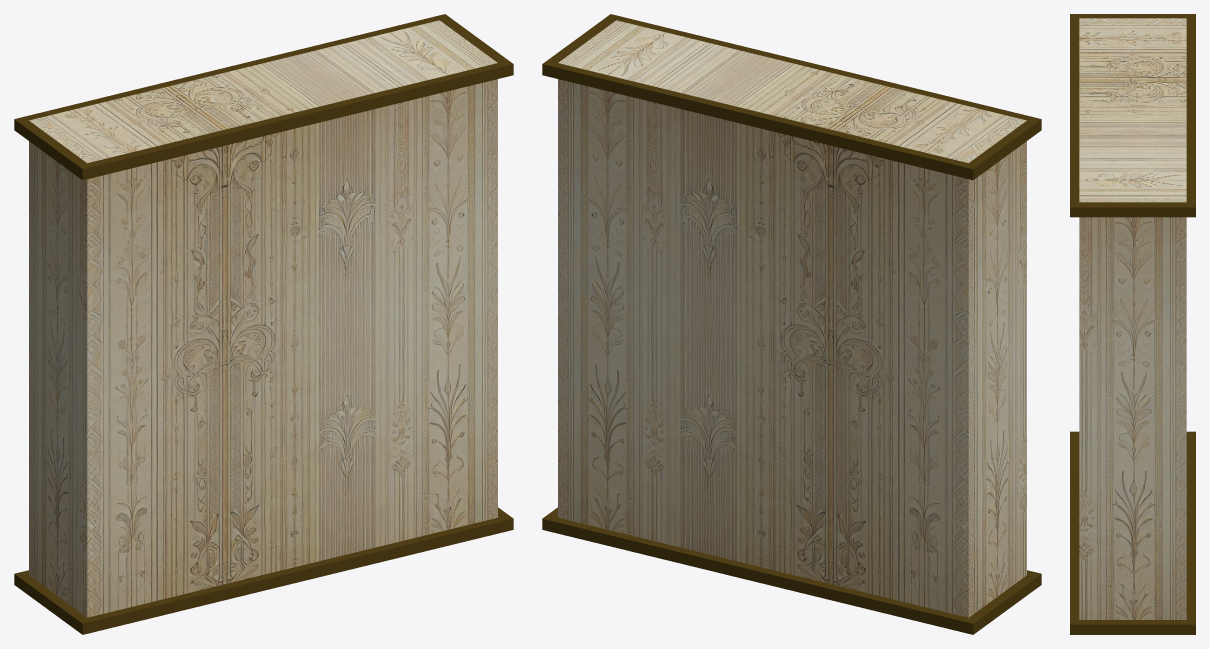
File: Wall_4.fbx
3 views of the same model, side by side, from view 1: azimuth 30°, elevation 25°; view 2: azimuth 150°, elevation 25°; view 3: azimuth 270°, elevation 25° (orthographic). The views are drawn at different scales.
Visible parts, largest first — view 1: Cube.069, Cube.071, Cube.070; view 2: Cube.069, Cube.071, Cube.070; view 3: Cube.069, Cube.071, Cube.070.
Part boxes in pixels (x1=…): Cube.069: x1=29, y1=20, x2=497, y2=617; Cube.071: x1=14, y1=14, x2=513, y2=180; Cube.070: x1=14, y1=507, x2=513, y2=634; Cube.069: x1=558, y1=20, x2=1026, y2=617; Cube.071: x1=542, y1=14, x2=1041, y2=180; Cube.070: x1=542, y1=507, x2=1041, y2=634; Cube.069: x1=1079, y1=18, x2=1186, y2=619; Cube.071: x1=1070, y1=14, x2=1195, y2=217; Cube.070: x1=1070, y1=431, x2=1195, y2=634.
Bounding box in the file's own units: 852 × 880 × 234.
